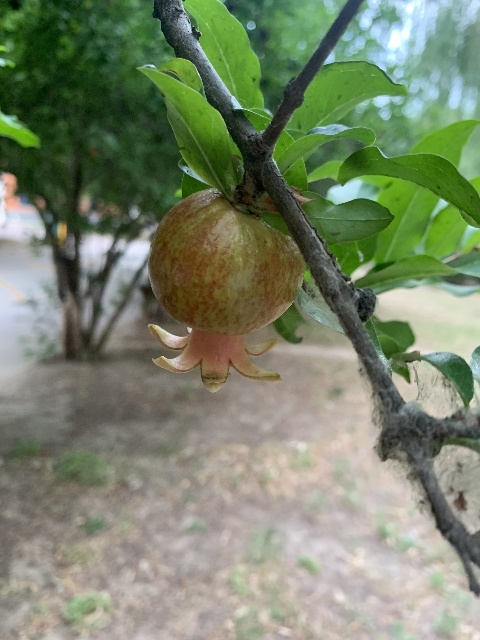early-fruit: (144, 193, 302, 393)
